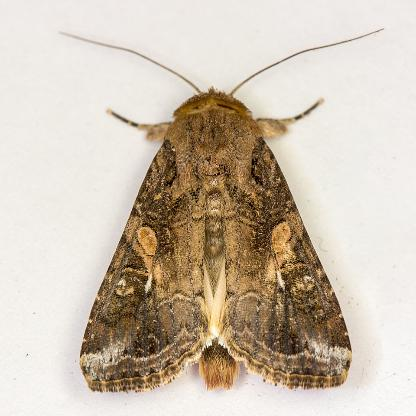Fall Armyworm Moth: (76, 25, 388, 399)
